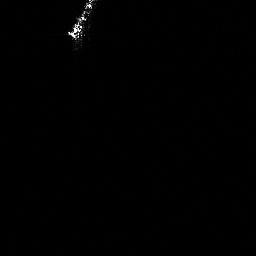ship: (64, 1, 99, 45)
